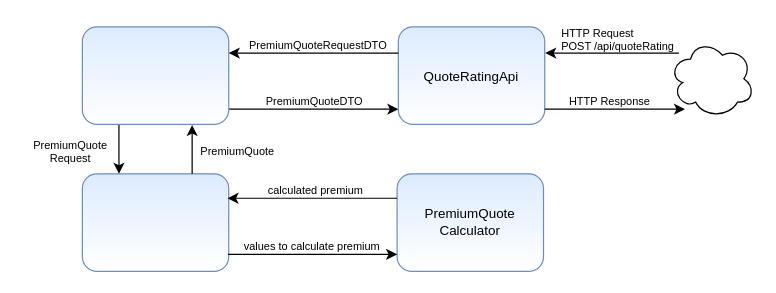
This 776x293 diagram has some shape labels left out. Each missing label, with the centre of its shape:
QuoteRatingEngine: the point at 155,222
QuoteRatingService: the point at 155,75
